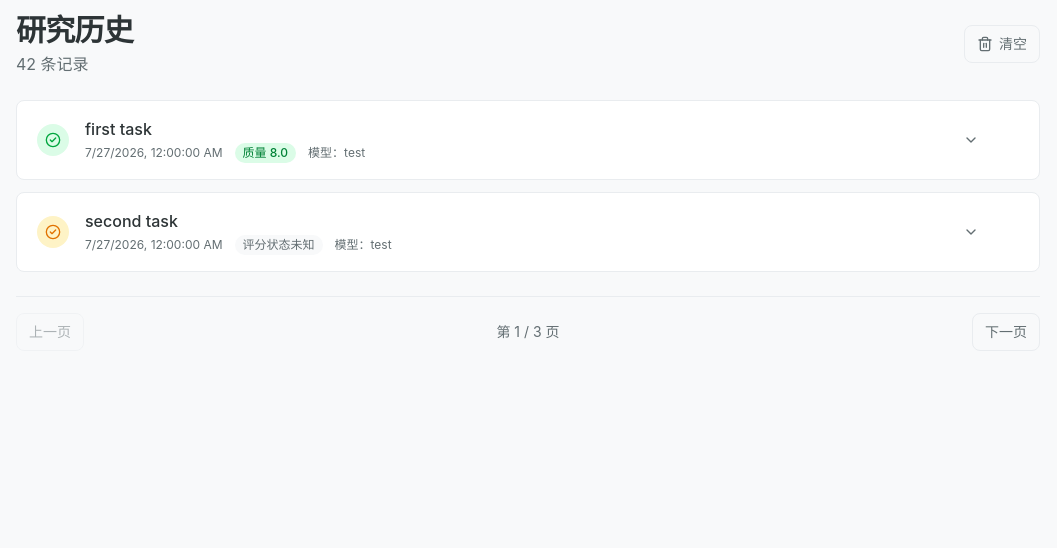
Test case: HistoryPage › renders stored reports as Markdown with highlighted code blocks
Click the heading "first task".
click(118, 129)  # box [85,119,152,139]
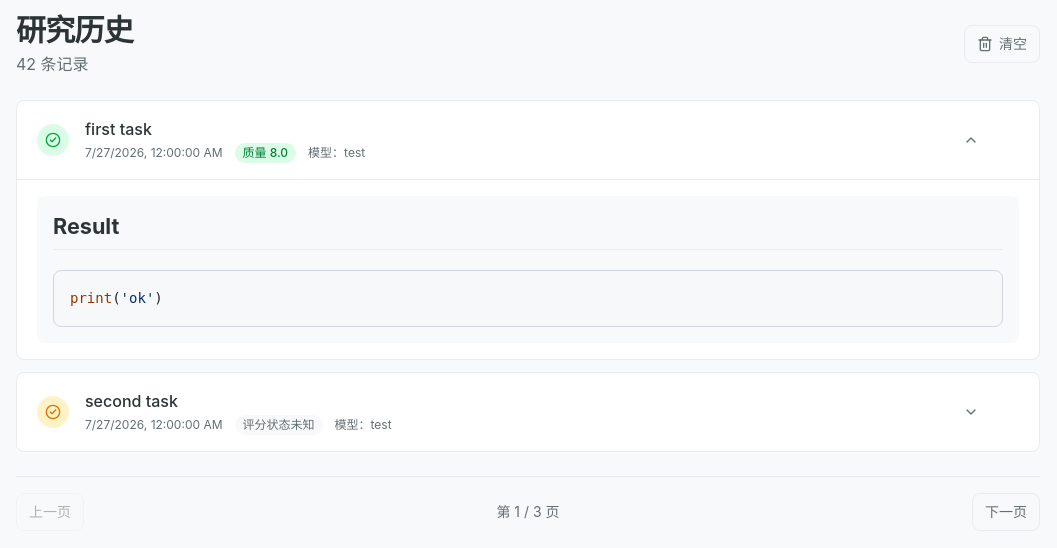
Expected: the heading "Result" is shown, [53,212,1003,250]
Expected: the element showing "print('ok')" is shown, [70,290,163,306]
